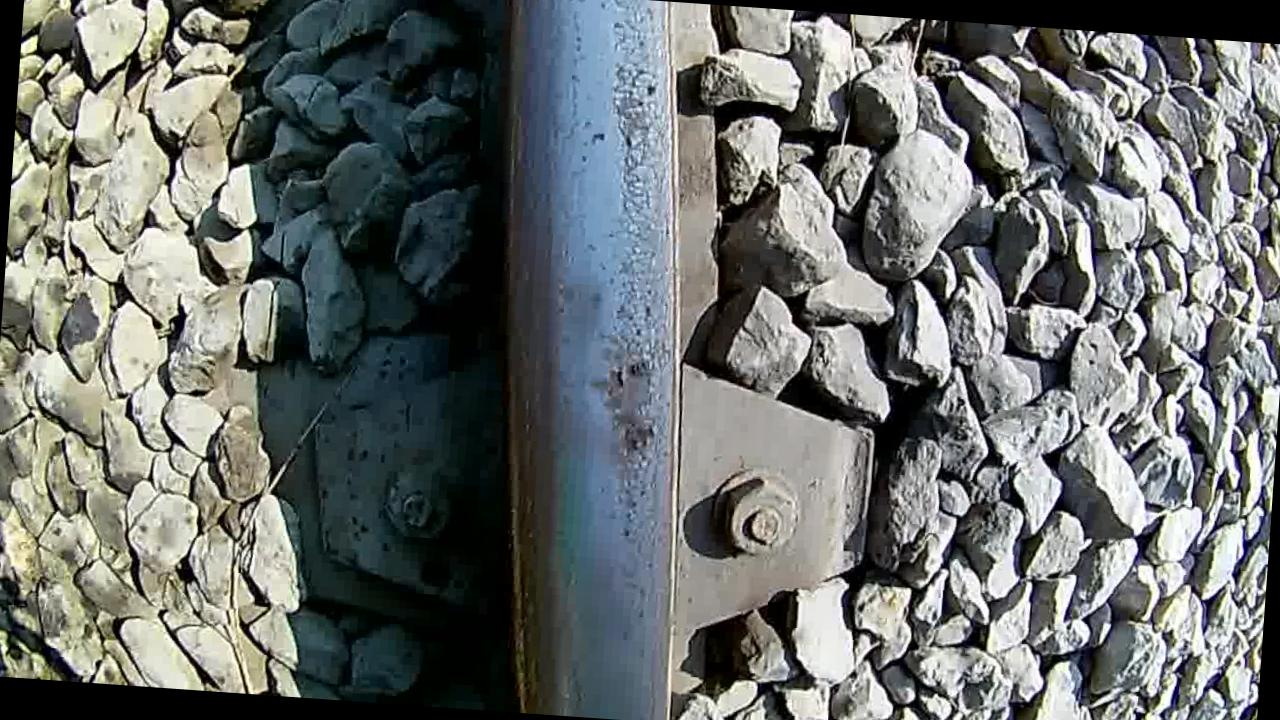crack: (463, 0, 707, 720)
